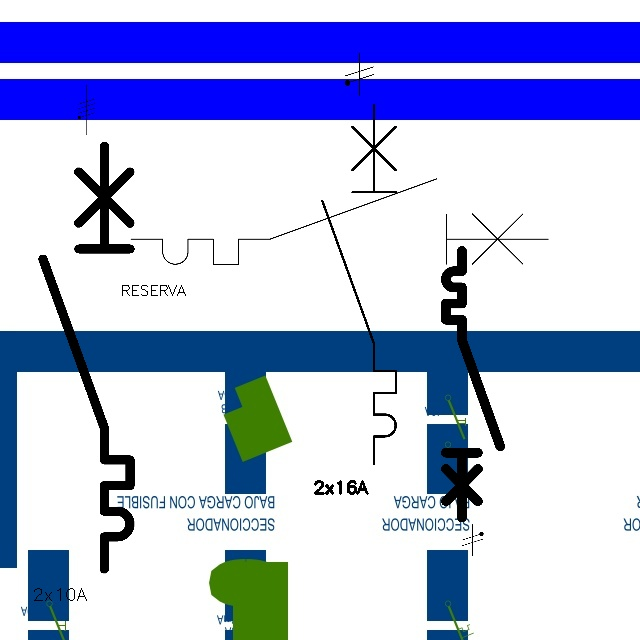interruptor_termomagnetico: (32, 135, 141, 580), (120, 168, 559, 275), (313, 95, 405, 472), (439, 244, 507, 524)
